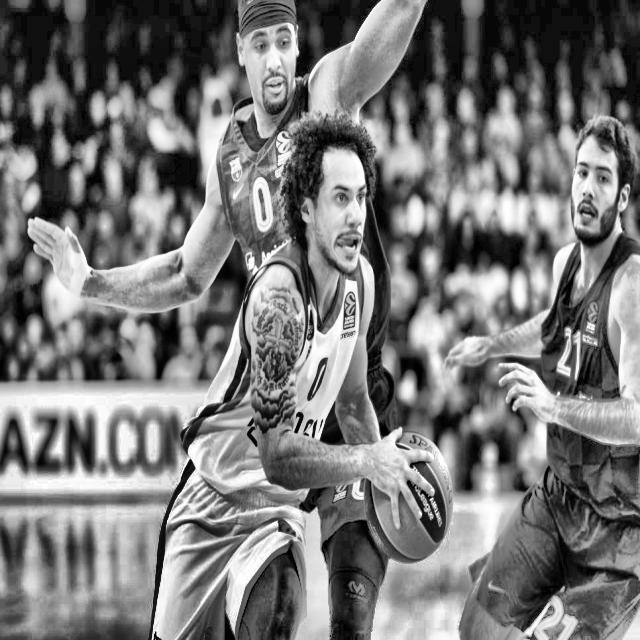Basketball: (366, 464, 453, 563), (401, 433, 429, 449)
